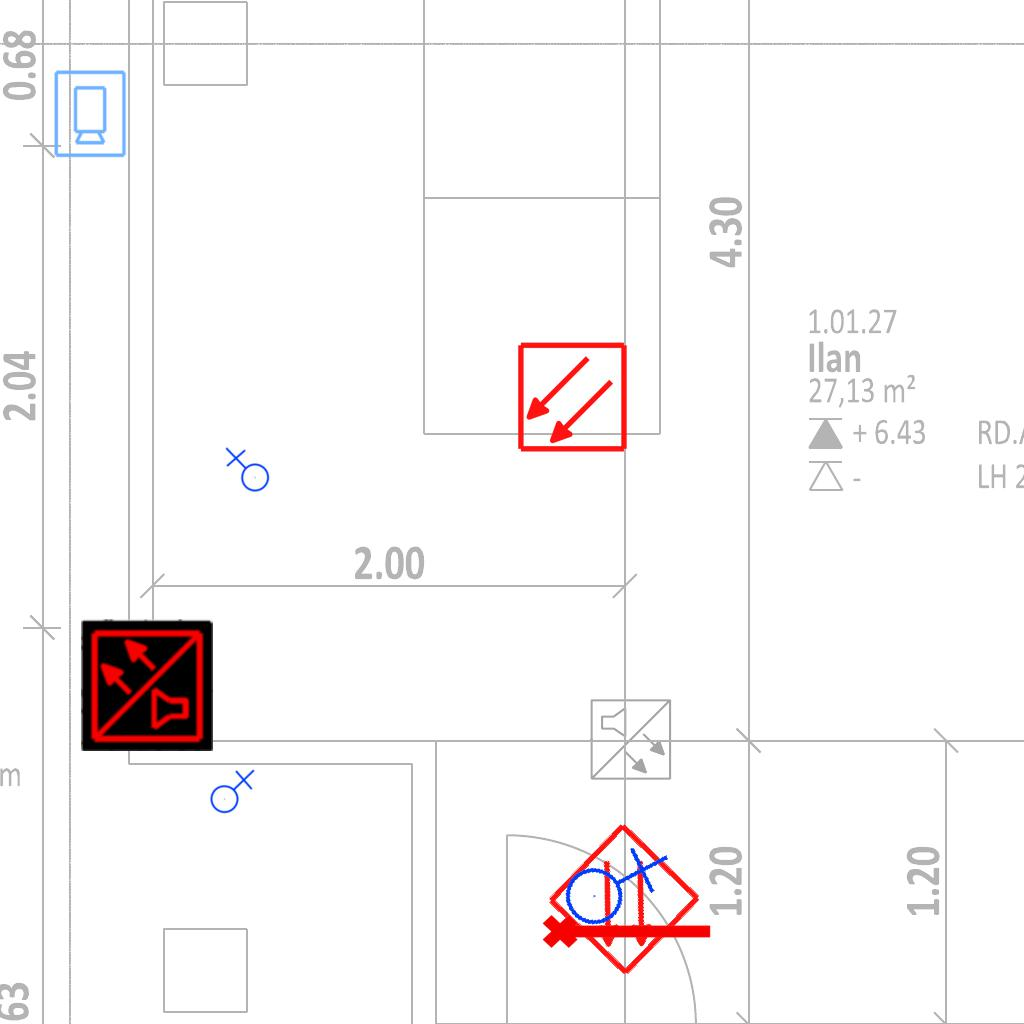ASR_Ansaugoeffnung: (540, 906, 716, 952)
Elektroanschluss_allgemein_230V_Geraeteanschlussdose_230V: (549, 824, 672, 942), (206, 767, 255, 814), (223, 447, 270, 496)
KFO_Kamera_mit_Festobjektiv: (51, 68, 128, 159)
OKW_Multisensormelder_(Kombination_optischer_Rauch-Kahlenmonoxid_Waerme-Melder): (81, 619, 213, 751)
RMO_Rauchmelder_optischer: (544, 819, 705, 980), (516, 341, 629, 454)
